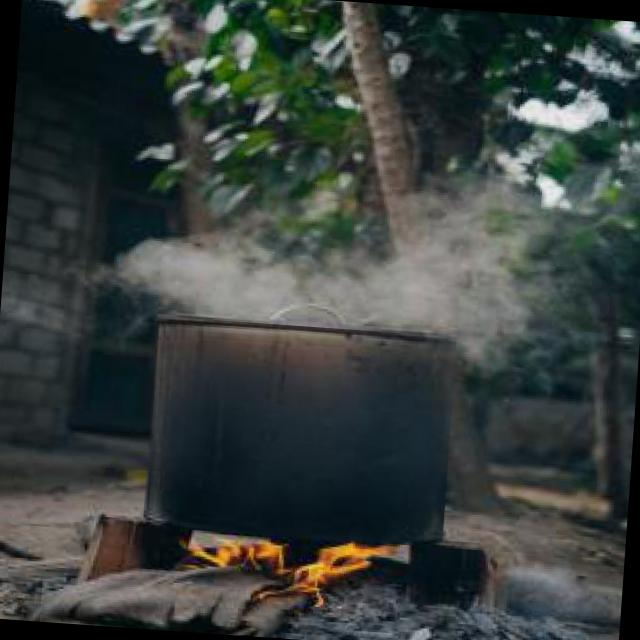fire: (173, 496, 423, 602)
smoke: (96, 184, 598, 372)
